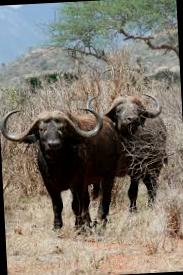Buffalo: (14, 85, 183, 275)
